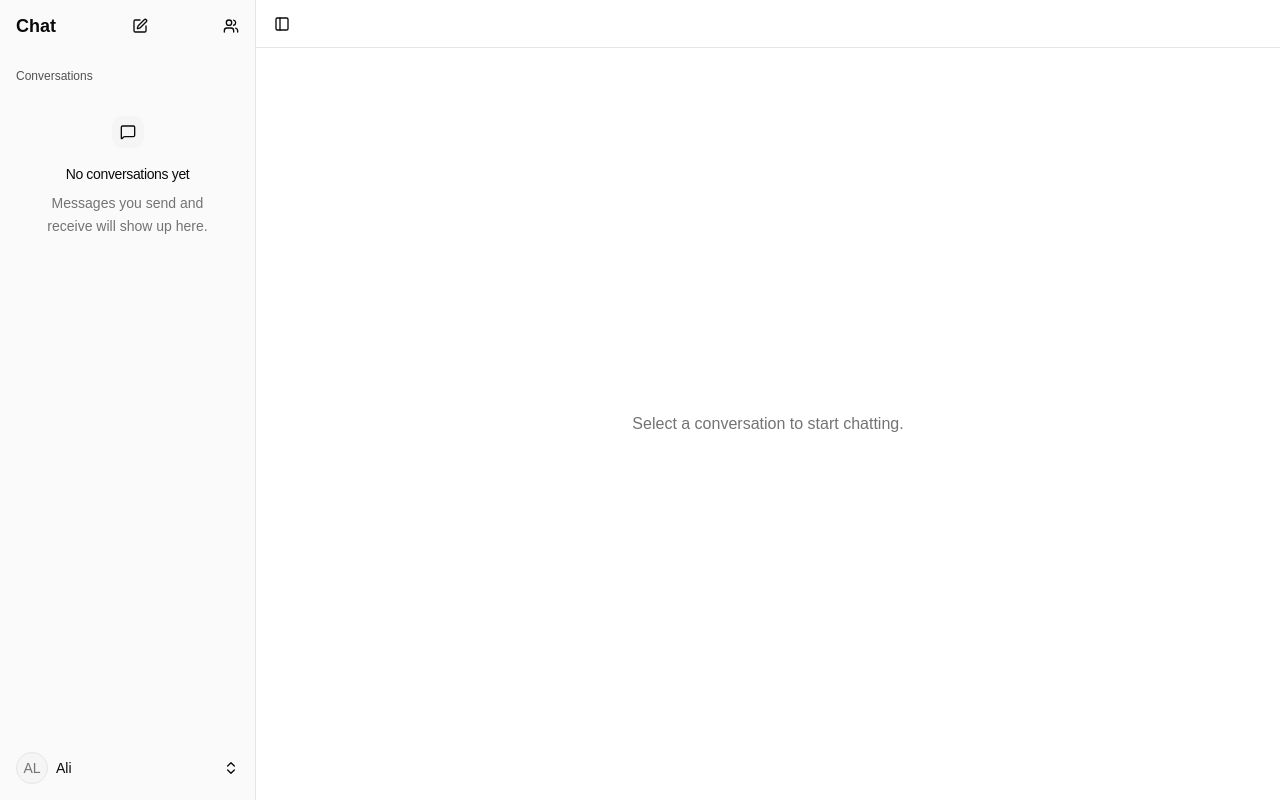
Test: new conversation: user search › does not filter client-side: shows exactly what the server returned
Expected: the text "No conversations yet" is shown, [66,164,189,184]
Click the button named "new conversation". click: (140, 26)
box: [124,10,156,42]
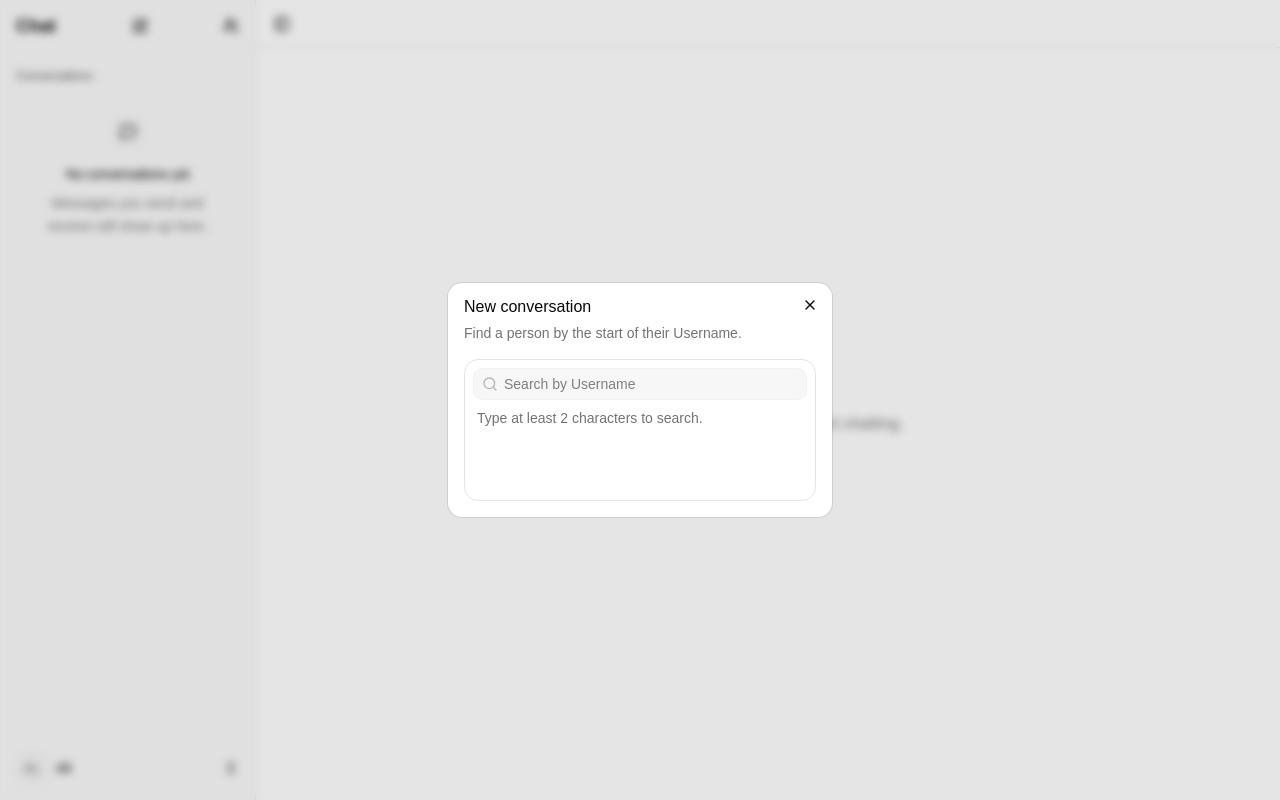
Type "zz" into the dropdown. click: (652, 384)
box: [498,374,806,394]
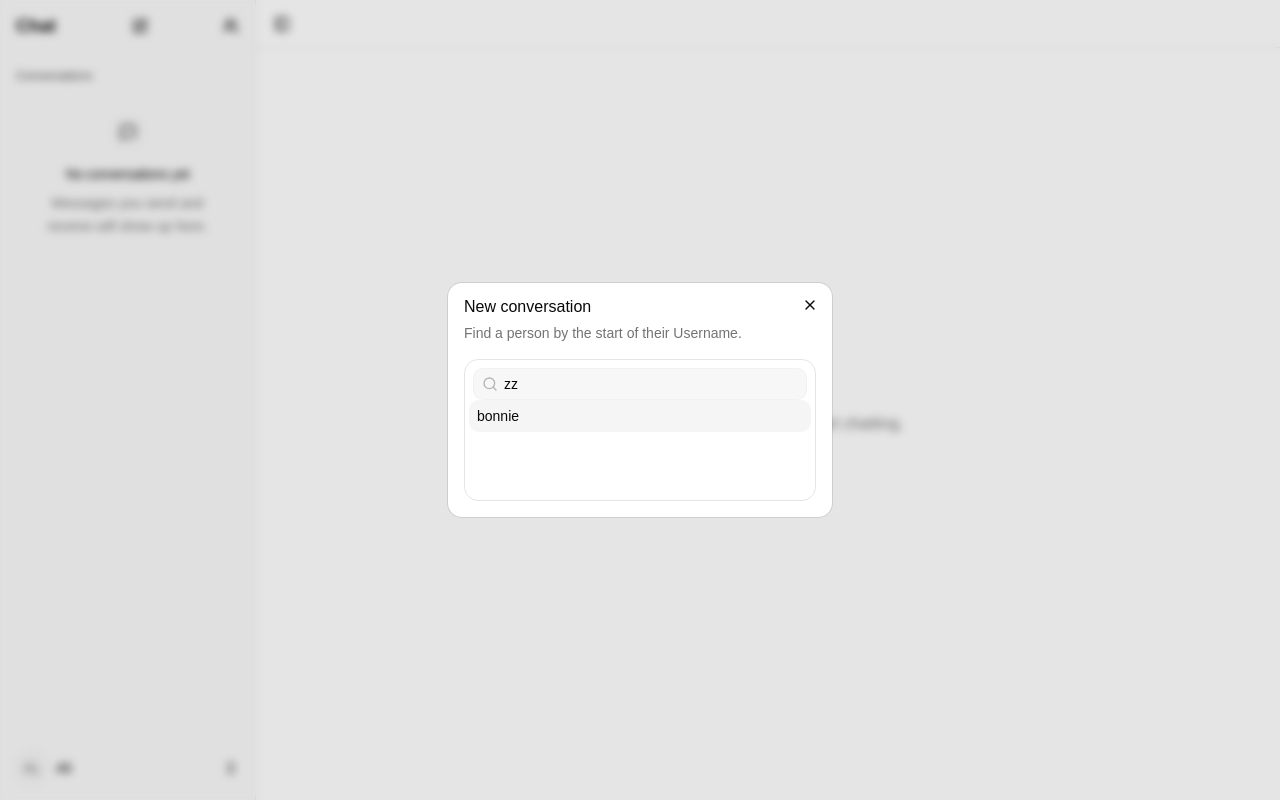
Expected: the option "bonnie" is shown, [469,400,811,432]
